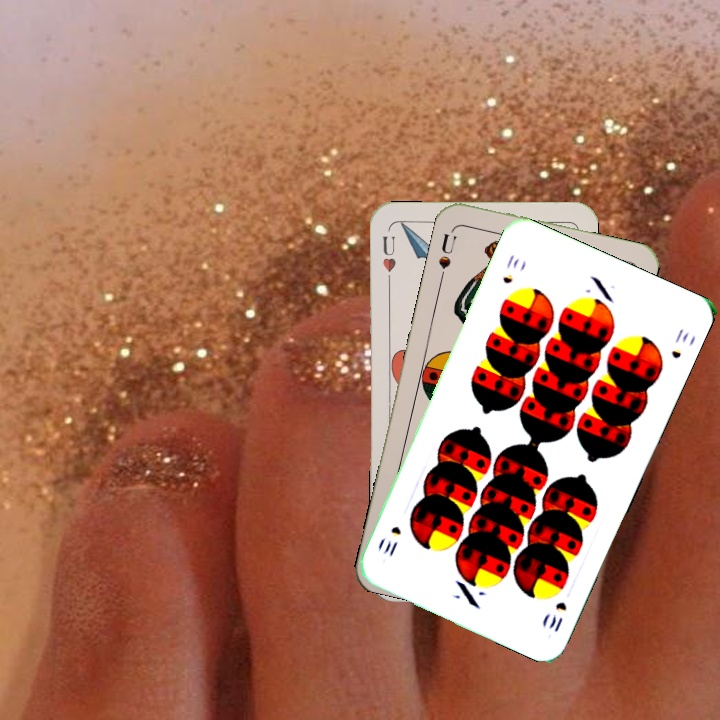HU: (379, 231, 399, 285)
S10: (544, 597, 570, 635), (498, 250, 522, 287)
SU: (434, 229, 459, 284)
